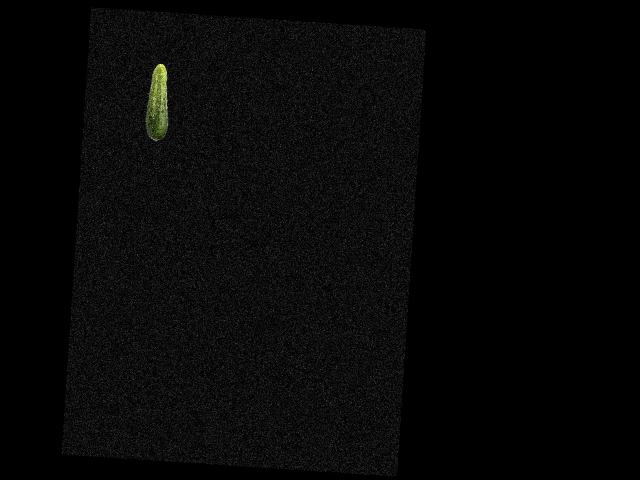cucumber: (143, 63, 171, 142)
